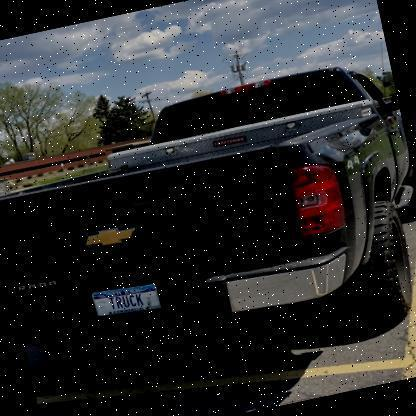License-Plate: (86, 273, 170, 328)
